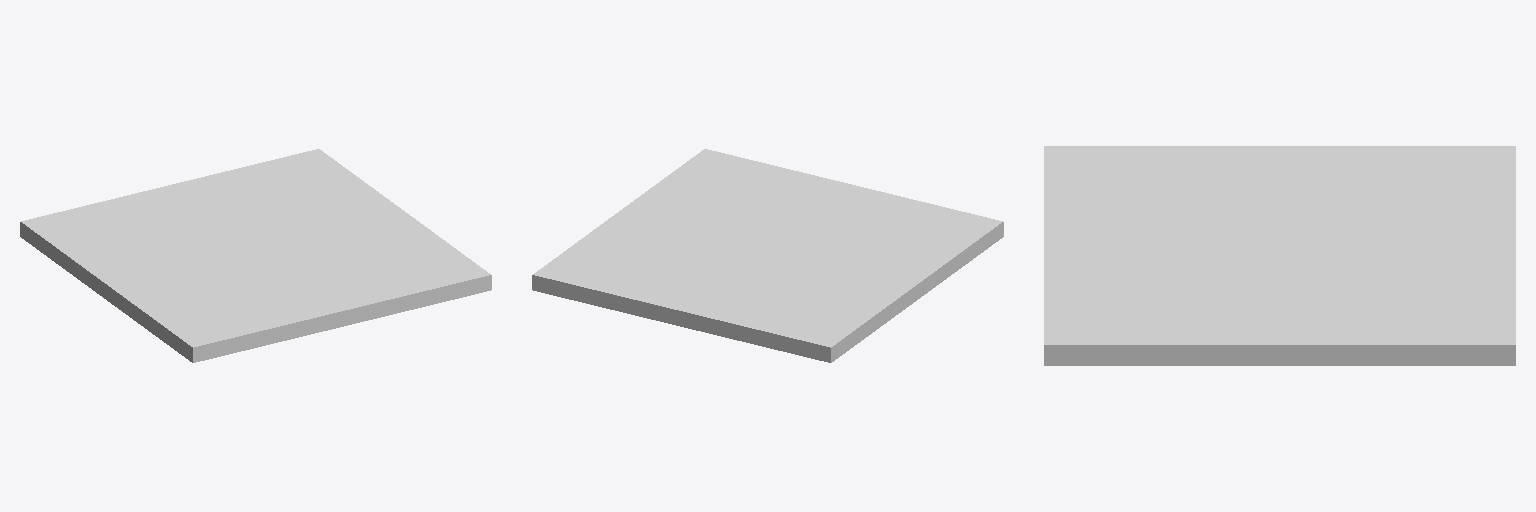
robot.urdf — plane:
<?xml version="1.0" ?>
<robot name="plane">
  <link name="planeLink">
    <contact>
      <lateral_friction value="1"/>
    </contact>
    <inertial>
      <origin rpy="0 0 0" xyz="0 0 0"/>
      <mass value=".0"/>
      <inertia ixx="0" ixy="0" ixz="0" iyy="0" iyz="0" izz="0"/>
    </inertial>
    <collision>
      <origin rpy="0 0 0" xyz="0 0 -0.06"/>
      <geometry>
        <box size="2 2 0.1"/>
      </geometry>
    </collision>
    <visual>
      <origin rpy="0 0 0" xyz="0 0 -0.06"/>
      <geometry>
        <box size="2 2 0.1"/>
      </geometry>
      <material name="LightGrey">
        <color rgba="0.9 0.9 0.9 1"/>
      </material>
    </visual>
  </link>
</robot>

--- Render facts (derived) ---
Views: 3 orthographic renders of the robot side by side, from view 1: azimuth 30°, elevation 25°; view 2: azimuth 150°, elevation 25°; view 3: azimuth 270°, elevation 25°.
Model plane with 1 links and 0 joints (none), rooted at planeLink, posed all joints at 0.
Links seen in each view (by area): view 1: planeLink; view 2: planeLink; view 3: planeLink.
Boxes of the visible links, x1=… form: planeLink: x1=20, y1=149, x2=491, y2=362; planeLink: x1=532, y1=149, x2=1003, y2=362; planeLink: x1=1044, y1=146, x2=1515, y2=365.
Size in the robot's own frame: 2 by 2 by 0.1 metres.
Geometry: primitives only (box / cylinder / sphere), no mesh files.
